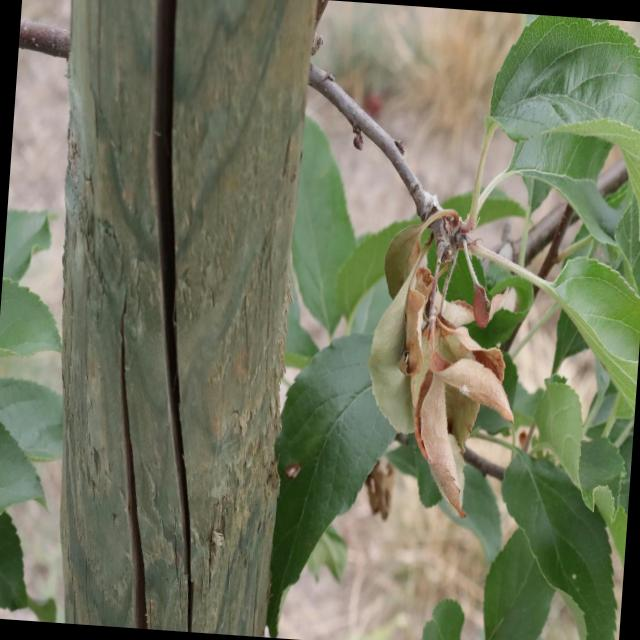-FireBlight-: (377, 228, 525, 520)
